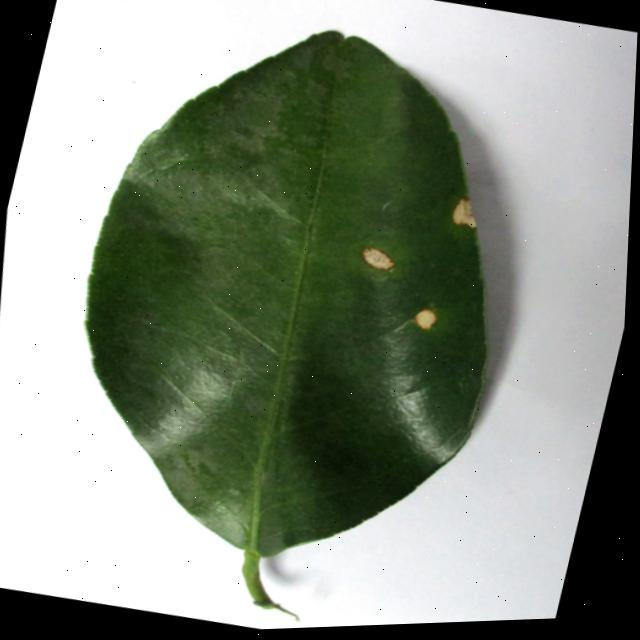antracnose: (85, 31, 486, 613), (452, 198, 475, 228), (362, 248, 393, 270), (414, 309, 436, 330)
